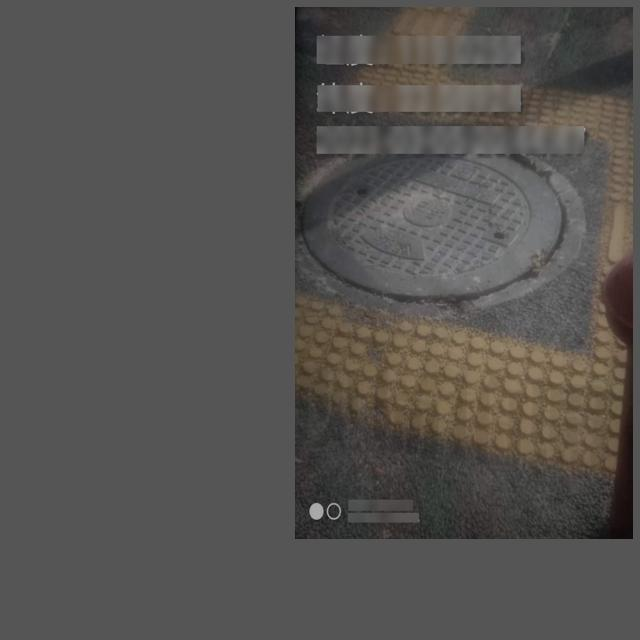good: (298, 144, 564, 298)
